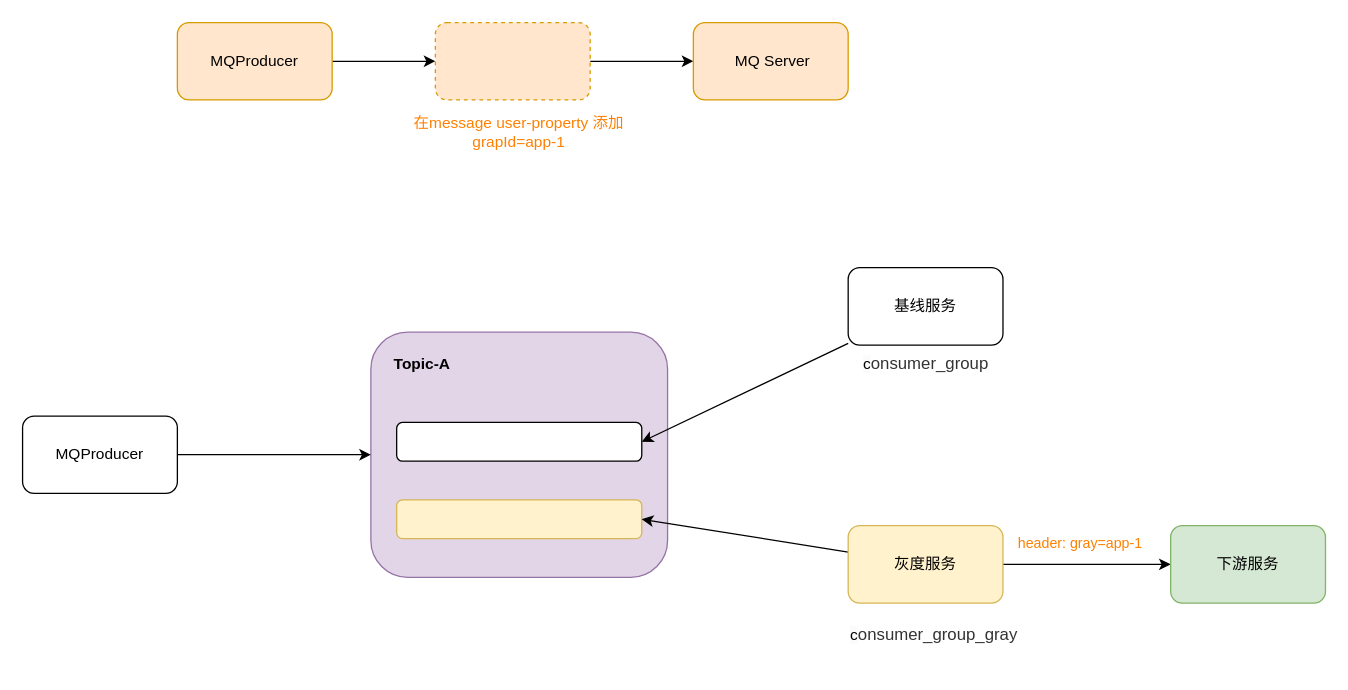
The diagram is 1348 pixels wide and 690 high, and some of its shapes have lost their labels. The shapes that lost their labels are listed below. From the top down, each one's centre as x and y in pixels, then its label:
the point at 512,60: SendMessageHook
the point at 518,441: MessageQueue 基线
the point at 518,519: MessageQueue 灰度
